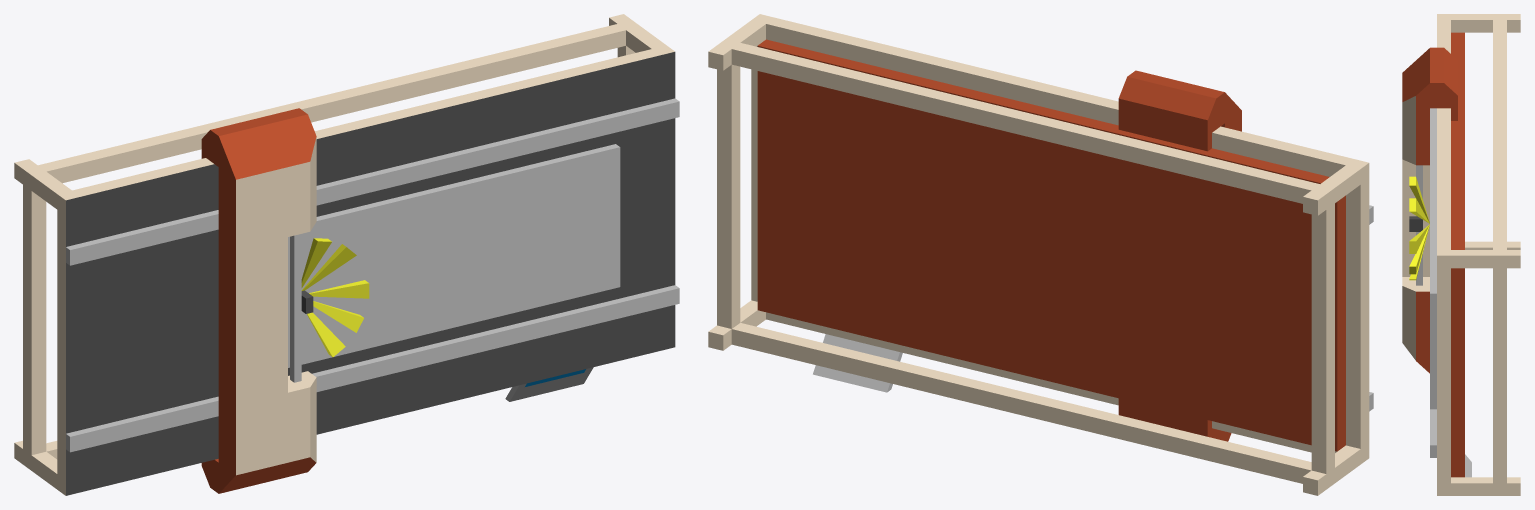
The model's file is cnc_cutting_machine_6_state_2.dae.
3 views of the same model, side by side, from view 1: azimuth 30°, elevation 25°; view 2: azimuth 150°, elevation 25°; view 3: azimuth 270°, elevation 25° (orthographic). The views are drawn at different scales.
Parts seen in each view (by area): view 1: coords_ME_ID105_MA_material_11, coords_ME_ID111_MA_material, coords_ME_ID11_MA_material_12, coords_ME_ID25_MA_material, coords_ME_ID79_MA_material, coords_ME_ID3_MA_material_12, coords_ME_ID41_MA_material_14, coords_ME_ID67_MA_material_11, coords_ME_ID33_MA_material_11, coords_ME_ID117_MA_material_11, coords_ME_ID61_MA_material_11, coords_ME_ID85_MA_material_3; view 2: coords_ME_ID41_MA_material_14, coords_ME_ID11_MA_material_12, coords_ME_ID61_MA_material_11; view 3: coords_ME_ID11_MA_material_12, coords_ME_ID41_MA_material_14, coords_ME_ID3_MA_material_12, coords_ME_ID33_MA_material_11, coords_ME_ID105_MA_material_11, coords_ME_ID67_MA_material_11, coords_ME_ID117_MA_material_11, coords_ME_ID49_MA_material_3, coords_ME_ID55_MA_material_3, coords_ME_ID85_MA_material_3, coords_ME_ID91_MA_material_3, coords_ME_ID73_MA_material.
Part boxes in pixels (x1,y1,x2,y2): coords_ME_ID105_MA_material_11: [288, 144, 620, 367]; coords_ME_ID111_MA_material: [66, 118, 675, 433]; coords_ME_ID11_MA_material_12: [14, 14, 674, 495]; coords_ME_ID25_MA_material: [66, 52, 675, 246]; coords_ME_ID79_MA_material: [66, 305, 675, 495]; coords_ME_ID3_MA_material_12: [236, 137, 316, 475]; coords_ME_ID41_MA_material_14: [201, 108, 316, 493]; coords_ME_ID67_MA_material_11: [66, 285, 679, 452]; coords_ME_ID33_MA_material_11: [66, 98, 679, 265]; coords_ME_ID117_MA_material_11: [290, 234, 301, 382]; coords_ME_ID61_MA_material_11: [505, 367, 593, 401]; coords_ME_ID85_MA_material_3: [309, 280, 369, 298]; coords_ME_ID41_MA_material_14: [757, 39, 1345, 451]; coords_ME_ID11_MA_material_12: [708, 14, 1369, 495]; coords_ME_ID61_MA_material_11: [813, 334, 902, 392]; coords_ME_ID11_MA_material_12: [1437, 14, 1520, 495]; coords_ME_ID41_MA_material_14: [1402, 32, 1464, 477]; coords_ME_ID3_MA_material_12: [1402, 96, 1429, 360]; coords_ME_ID33_MA_material_11: [1430, 108, 1436, 306]; coords_ME_ID105_MA_material_11: [1430, 306, 1436, 409]; coords_ME_ID67_MA_material_11: [1430, 409, 1436, 457]; coords_ME_ID117_MA_material_11: [1416, 165, 1422, 285]; coords_ME_ID49_MA_material_3: [1409, 176, 1429, 223]; coords_ME_ID55_MA_material_3: [1409, 225, 1429, 274]; coords_ME_ID85_MA_material_3: [1409, 224, 1429, 253]; coords_ME_ID91_MA_material_3: [1409, 198, 1429, 223]; coords_ME_ID73_MA_material: [1409, 216, 1422, 231].
Bounding box in the file's own units: 80.71 × 45.28 × 16.73.
